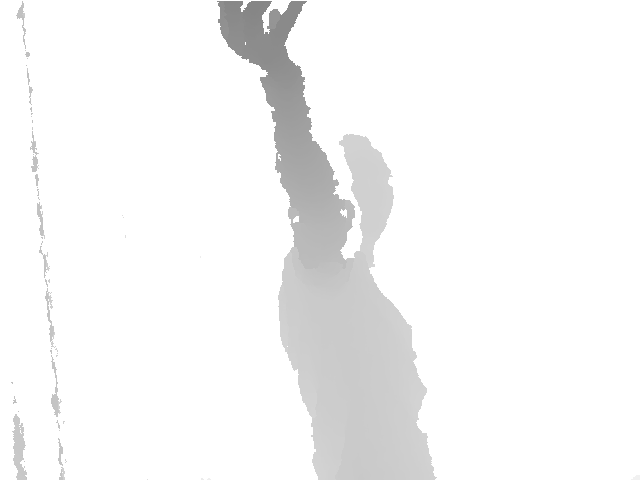hand: (218, 1, 306, 74)
head: (330, 134, 394, 246)
person: (217, 1, 436, 480)
